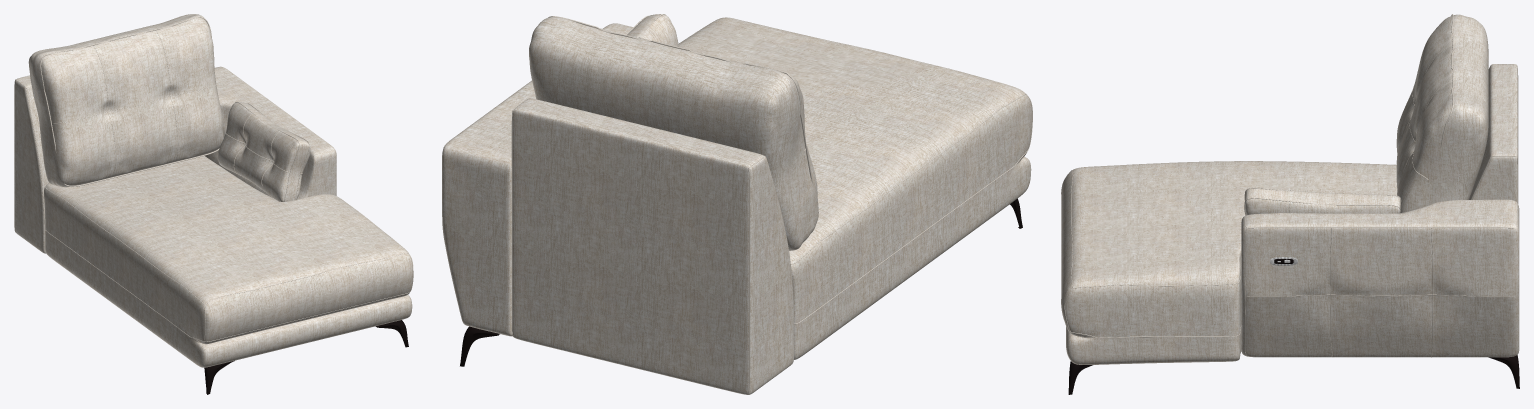
The model's file is chaise.glb.
The picture shows the model from 3 angles, left to right: view 1: azimuth 30°, elevation 25°; view 2: azimuth 150°, elevation 25°; view 3: azimuth 270°, elevation 25°; orthographic projection. The views are drawn at different scales.
Visible parts, largest first — view 1: D=~ 0,00 m, pé; view 2: D=~ 0,00 m, pé; view 3: D=~ 0,00 m, pé.
Part boxes in pixels (x1,y1,x2,y2): D=~ 0,00 m: (14, 14, 413, 367); pé: (204, 320, 408, 394); D=~ 0,00 m: (442, 14, 1032, 394); pé: (460, 198, 1022, 366); D=~ 0,00 m: (1061, 14, 1519, 364); pé: (1068, 259, 1519, 394).
Bounding box in the file's own units: 1.06 × 1.05 × 1.65.
Materials: 3 (2 with a texture image).
